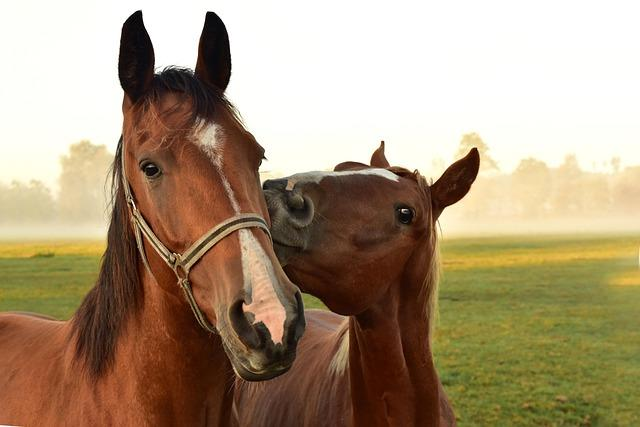Non_Gorille: (59, 6, 491, 421)
